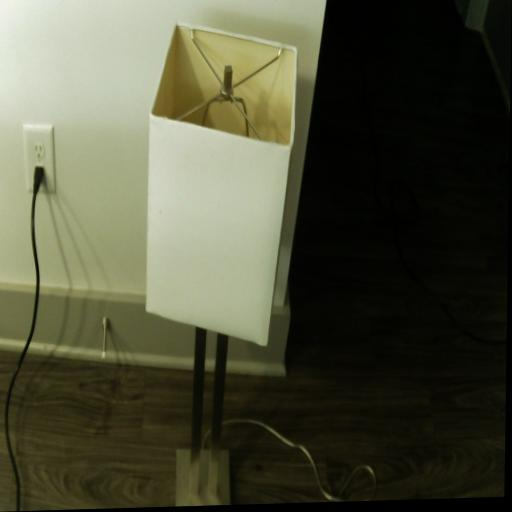lamp: (142, 17, 299, 508)
